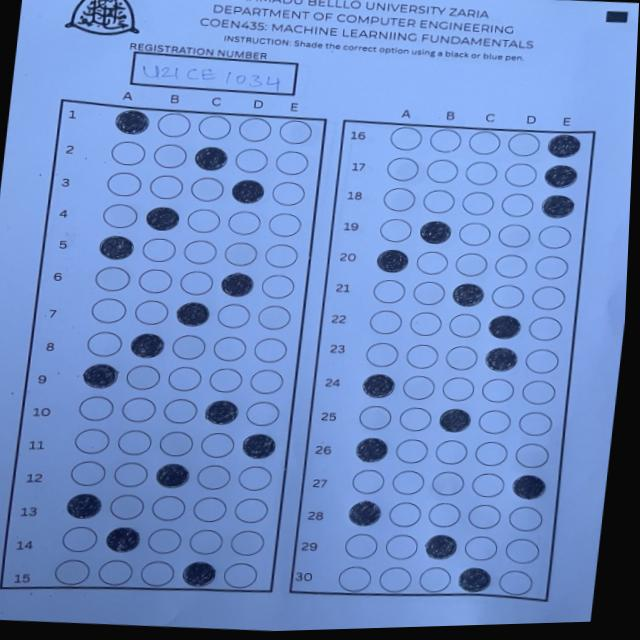bubble: (81, 361, 120, 390), (112, 107, 150, 136), (65, 491, 103, 520), (129, 331, 166, 360), (104, 525, 141, 554), (97, 233, 135, 261), (241, 432, 277, 461), (510, 473, 547, 501), (456, 566, 493, 594), (347, 498, 382, 527), (483, 345, 519, 373), (204, 397, 240, 425), (422, 532, 458, 560), (154, 461, 190, 489), (180, 559, 216, 587), (144, 205, 181, 232), (219, 271, 256, 298), (545, 132, 581, 159), (542, 163, 578, 190), (486, 313, 522, 340), (174, 300, 210, 327), (354, 435, 388, 463), (193, 145, 228, 172), (230, 178, 265, 205), (540, 193, 575, 220), (450, 281, 485, 308), (361, 372, 396, 399), (375, 247, 409, 274), (418, 218, 452, 245), (437, 406, 471, 433)
